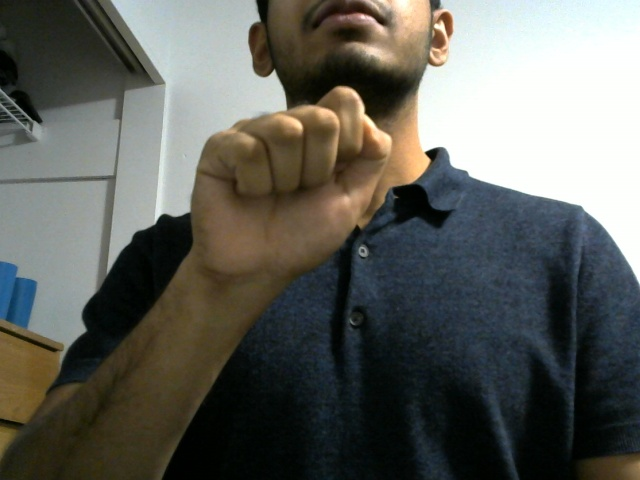A: (186, 84, 405, 279)
